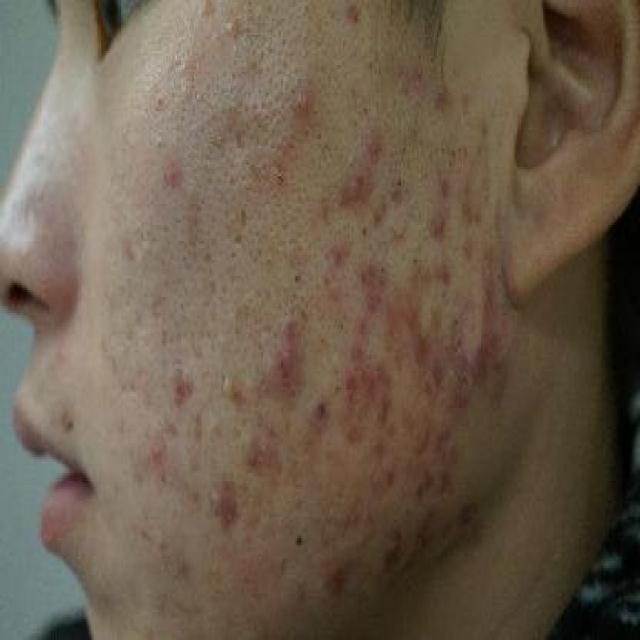papules: (260, 299, 308, 408), (198, 471, 242, 540), (337, 160, 377, 211), (288, 74, 324, 123), (355, 126, 394, 162)
